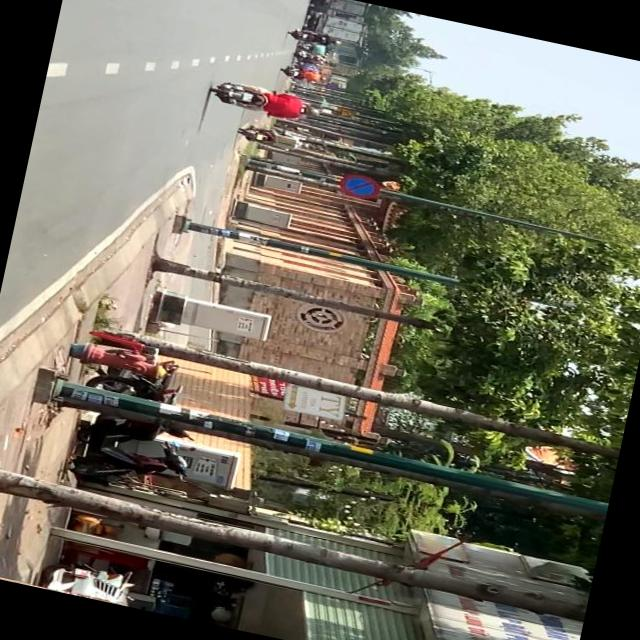P-131a: (338, 172, 383, 206)
